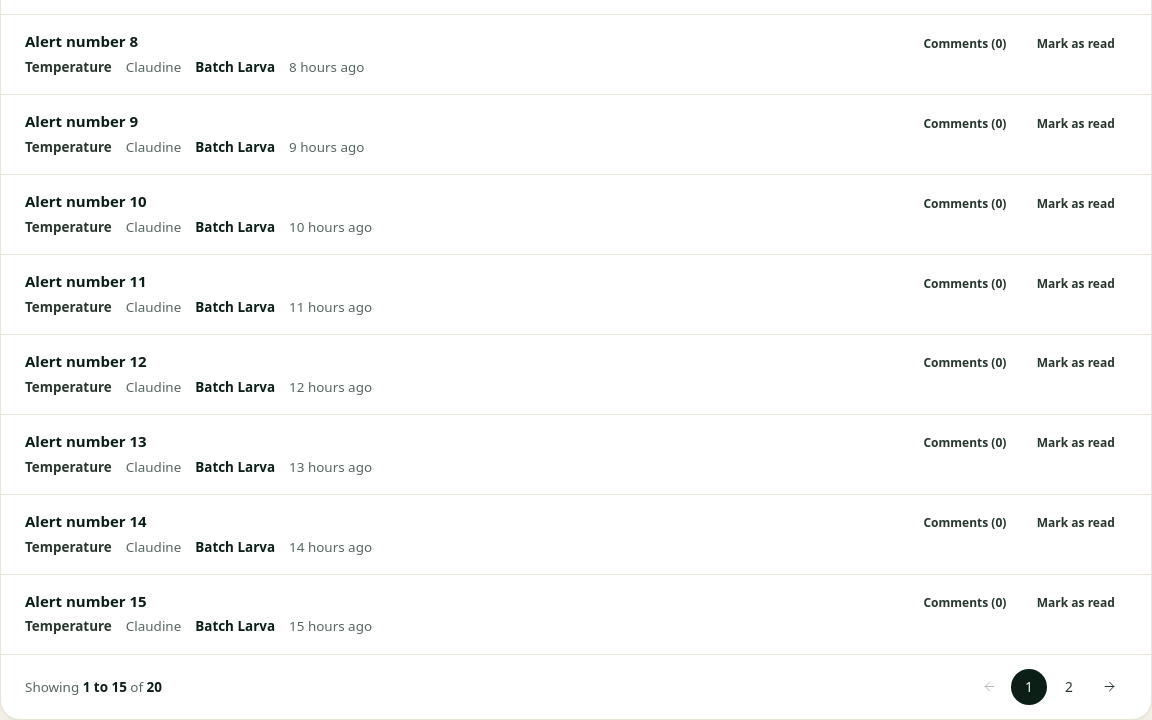
Test: Alerts page › shows fifteen at a time and pages through the rest
This screenshot has width=1152, height=720.
(page scrolled)
Expected: the text "Alert number 16" is not shown
What coordinates should you click on to do the following:
click the button named "Next page"
I would click on:
 (1109, 687)
Its box is x1=1091 y1=669 x2=1127 y2=705.
(page scrolled)
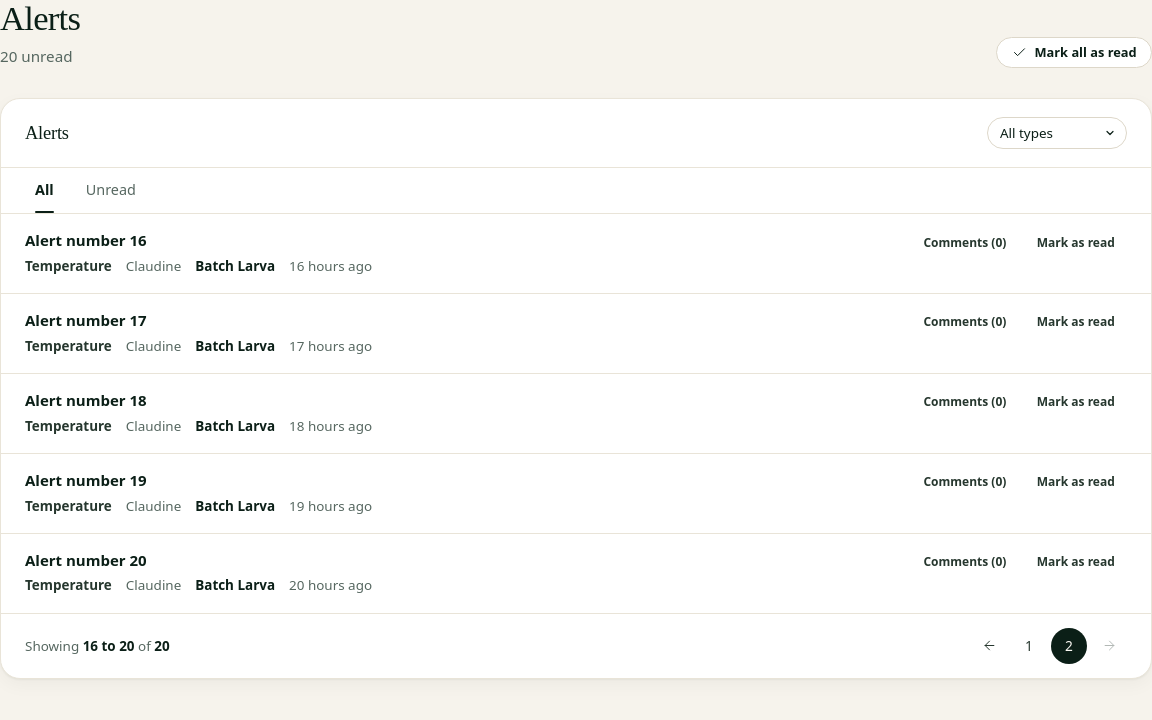
Now the text "Alert number 16" is shown, box x1=25 y1=230 x2=147 y2=250
Now the number of list items is 5, box x1=25 y1=230 x2=1127 y2=275; x1=1 y1=293 x2=1151 y2=373; x1=1 y1=373 x2=1151 y2=453; x1=1 y1=453 x2=1151 y2=533; x1=1 y1=533 x2=1151 y2=613
